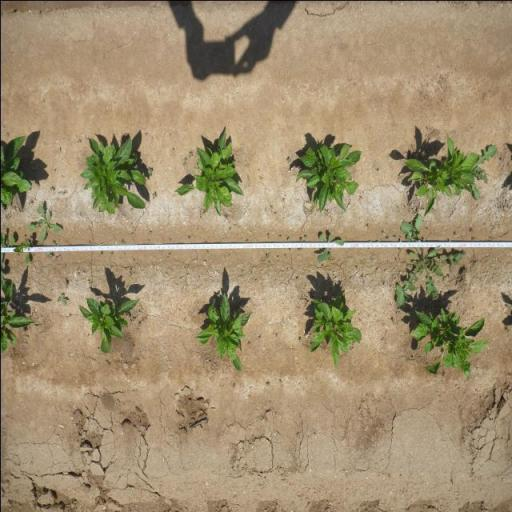plant: (170, 128, 245, 219), (408, 306, 490, 380), (404, 134, 474, 218), (80, 134, 147, 216), (192, 292, 255, 374), (293, 140, 359, 214), (307, 289, 363, 369), (76, 292, 139, 354), (0, 278, 40, 354), (0, 132, 31, 206), (56, 292, 68, 306)
weed: (394, 213, 468, 307), (472, 143, 498, 202), (26, 205, 64, 243), (316, 232, 342, 262), (13, 236, 32, 266), (394, 238, 402, 252), (146, 166, 154, 176), (150, 190, 157, 200), (284, 155, 291, 163), (127, 266, 132, 277), (182, 156, 187, 166), (46, 252, 54, 258), (396, 173, 403, 179), (76, 137, 82, 144), (48, 184, 55, 190), (28, 198, 34, 205), (119, 238, 126, 244), (188, 150, 193, 158), (326, 253, 331, 261), (470, 235, 476, 241), (264, 252, 270, 258), (390, 316, 394, 324), (364, 222, 370, 227), (358, 195, 364, 200), (374, 167, 380, 172), (468, 226, 472, 233), (98, 251, 102, 258), (392, 235, 398, 239), (452, 230, 456, 236), (187, 234, 191, 240), (298, 336, 302, 342), (51, 239, 55, 244), (109, 250, 113, 255), (297, 247, 302, 251), (266, 232, 269, 238), (286, 236, 289, 242), (146, 238, 150, 242), (298, 236, 302, 240), (386, 235, 389, 240), (148, 229, 151, 234), (168, 236, 170, 242), (245, 238, 248, 242), (278, 234, 281, 238), (258, 335, 260, 340), (320, 264, 323, 267), (132, 258, 134, 262), (304, 234, 306, 238), (288, 248, 290, 251), (382, 230, 383, 235)
